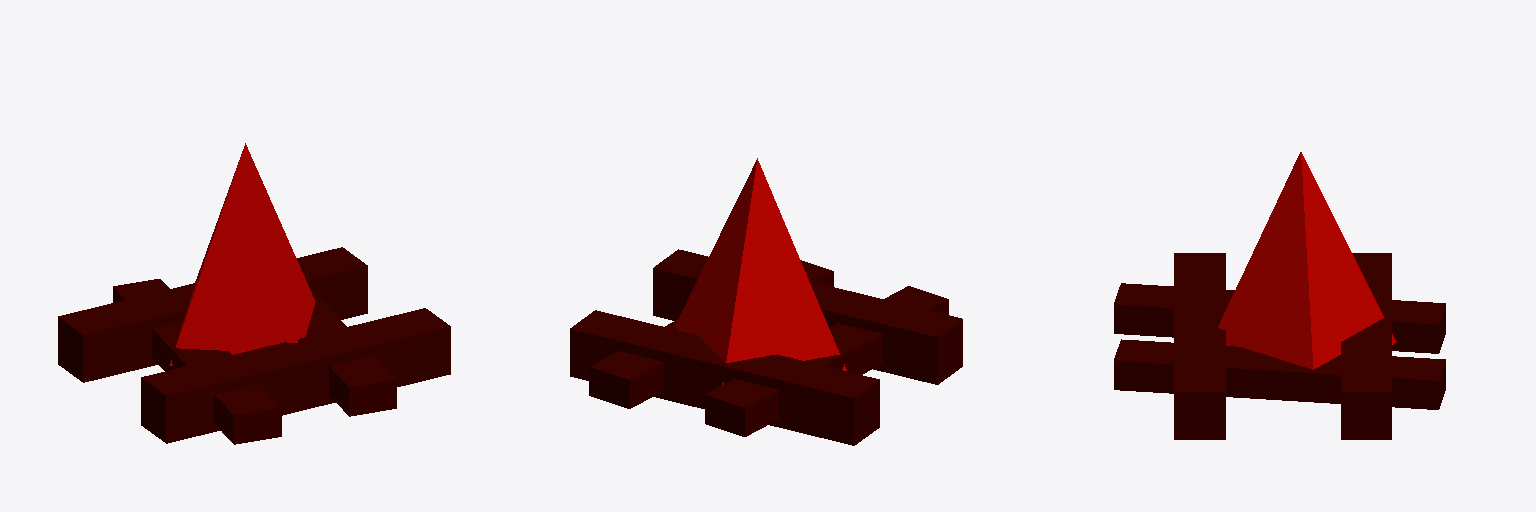
File: campfire.obj
The picture shows the model from 3 angles: view 1: azimuth 30°, elevation 25°; view 2: azimuth 150°, elevation 25°; view 3: azimuth 270°, elevation 25°; orthographic projection.
Visible parts, largest first — view 1: Cube.001; view 2: Cube.001; view 3: Cube.001.
Boxes of the visible parts, <box> form: Cube.001: <box>58,143,450,444</box>; Cube.001: <box>570,158,962,445</box>; Cube.001: <box>1114,152,1445,439</box>.
Size of the model in its own units: 2 by 1.53 by 2.02.